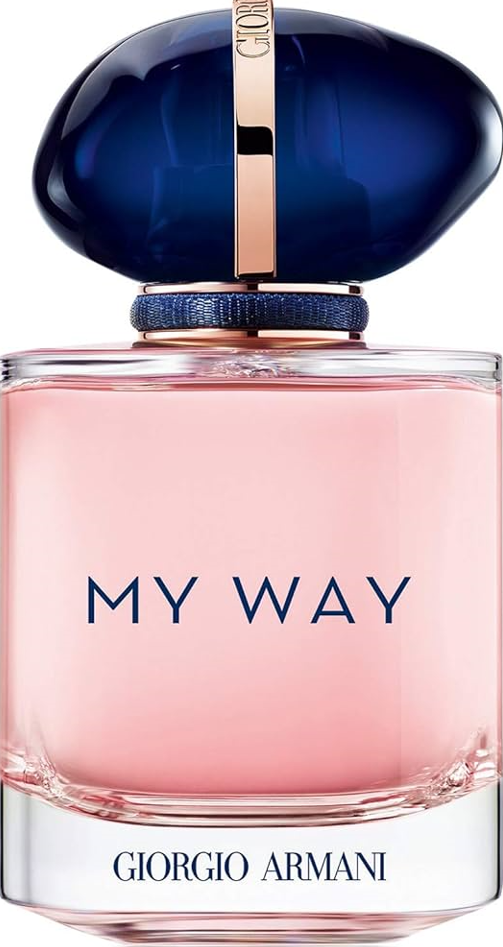armani_my_way_floral: (2, 6, 497, 945)
